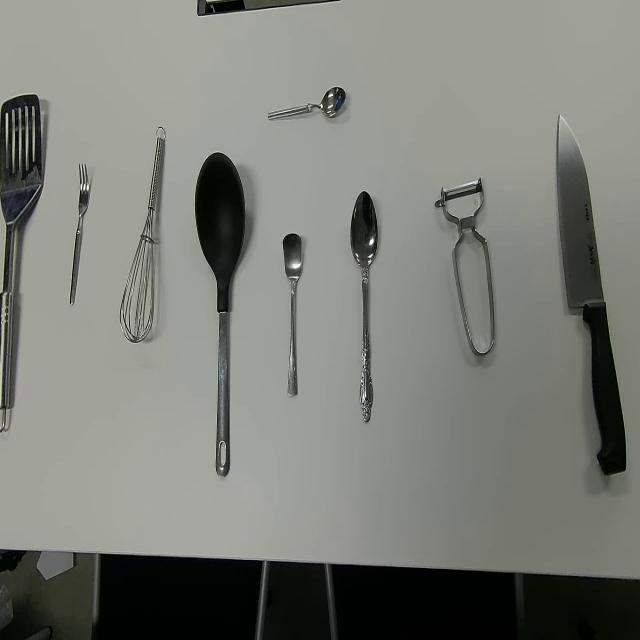Desert-Spoon: (350, 190, 379, 424)
Dinner-Fork: (68, 162, 90, 307)
Kitchen-Knife: (556, 113, 628, 476)
Peeler: (434, 175, 495, 356)
Serving-Spoon: (194, 151, 246, 479), (0, 91, 43, 434)
Tea-Spoon: (282, 231, 303, 400), (266, 85, 346, 123)
Whisk: (118, 126, 167, 344)
